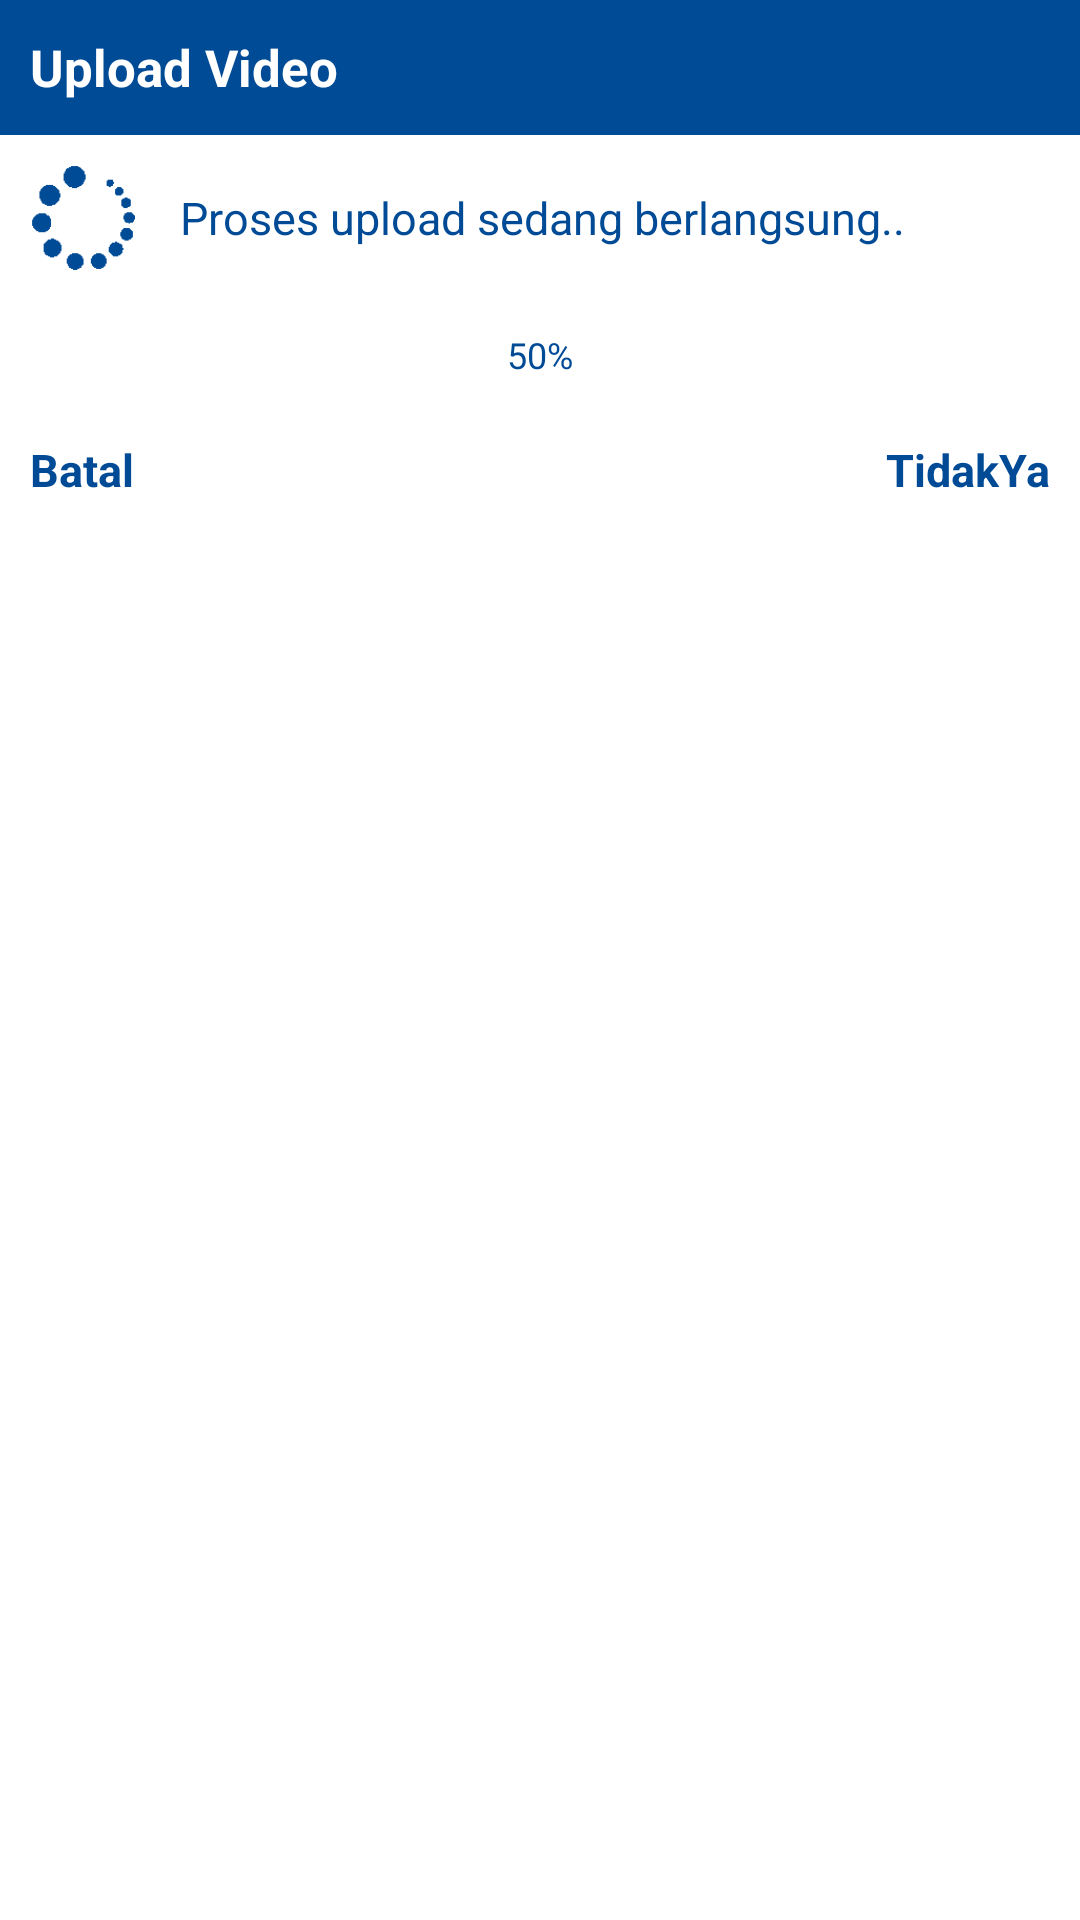

Screen size 1080x1920. Icon name, then its center in pixels as (x=x, y=y):
loading: (x=83, y=218)
